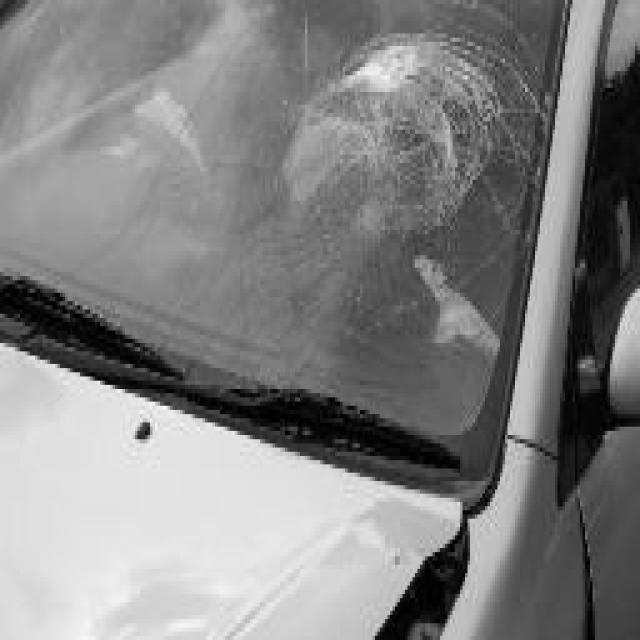Windshield: (178, 4, 538, 456)
